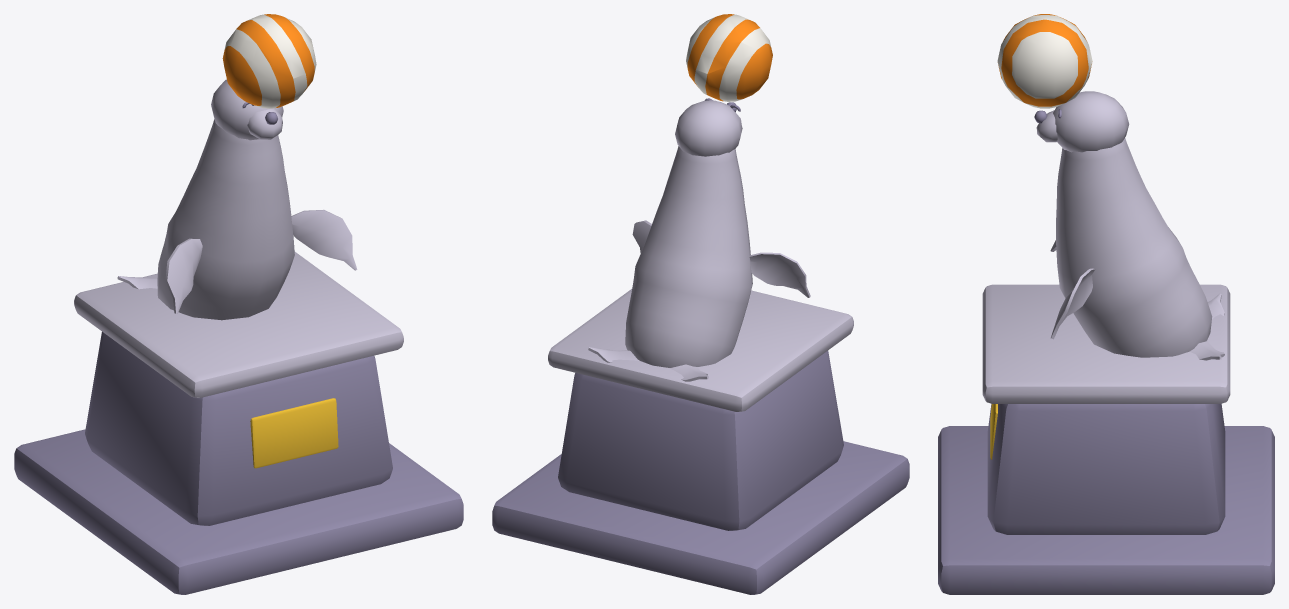
Rendered from W1_Statue.fbx.
3 views of the same model, side by side, from view 1: azimuth 30°, elevation 25°; view 2: azimuth 150°, elevation 25°; view 3: azimuth 270°, elevation 25° (orthographic). The views are drawn at different scales.
Parts seen in each view (by area): view 1: W1_Statue; view 2: W1_Statue; view 3: W1_Statue.
Part boxes in pixels (x1,y1,x2,y2): W1_Statue: (14, 14, 463, 594); W1_Statue: (492, 14, 909, 594); W1_Statue: (938, 14, 1274, 594).
Bounding box in the file's own units: 3.4 × 5.68 × 3.4.
